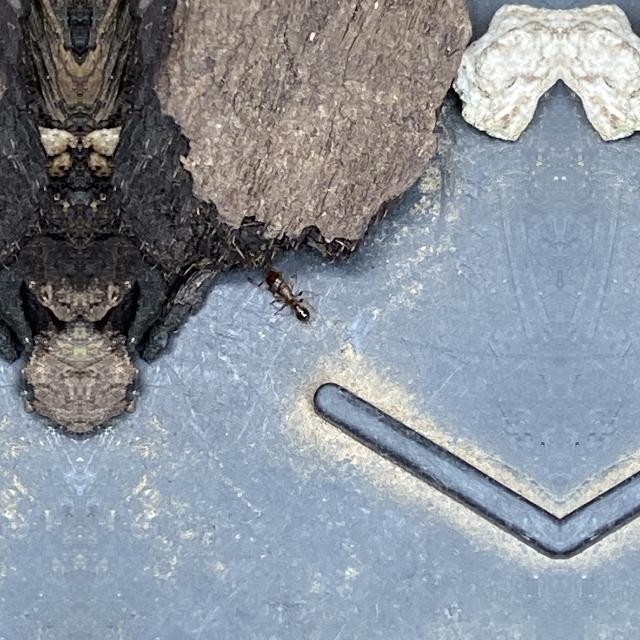Tetramorium: (256, 260, 326, 328)
